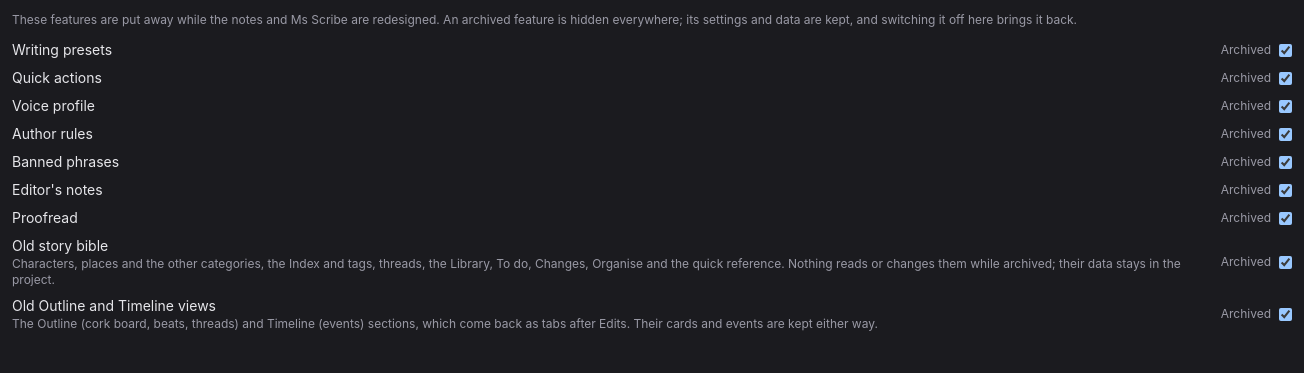
Test: ArchivedFeaturesTab › lists the nine switches on, and switching one off brings its entry point back
This screenshot has width=1304, height=373.
Expected: the switch labelled "Writing presets Archived" is checked, [1279,44,1292,56]
Expected: the switch labelled "Quick actions Archived" is checked, [1279,72,1292,84]
Click the switch named "Archive Proofread": point(1286, 218) [1279,212,1292,224]
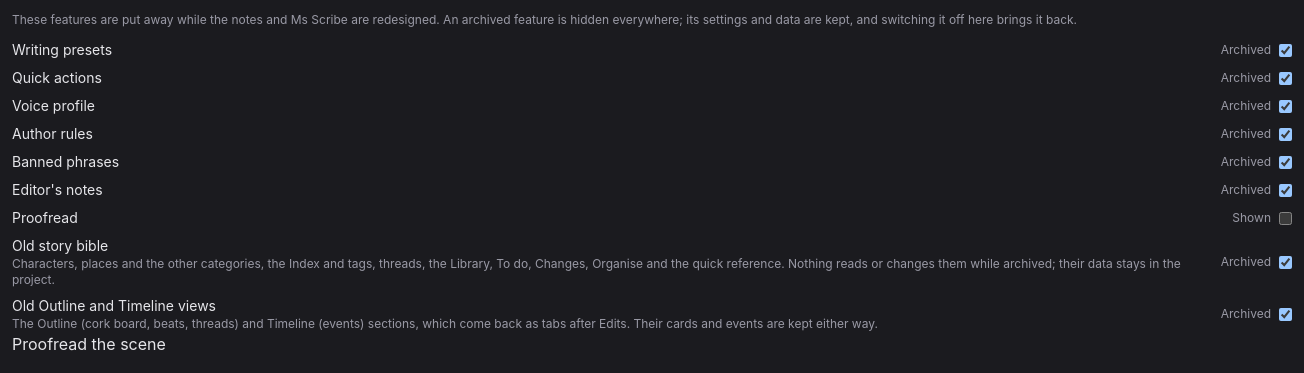
Result: the switch named "Archive Proofread" is not checked at [1279,212,1292,224]
Result: the button "Proofread the scene" is shown at [12,332,166,356]
